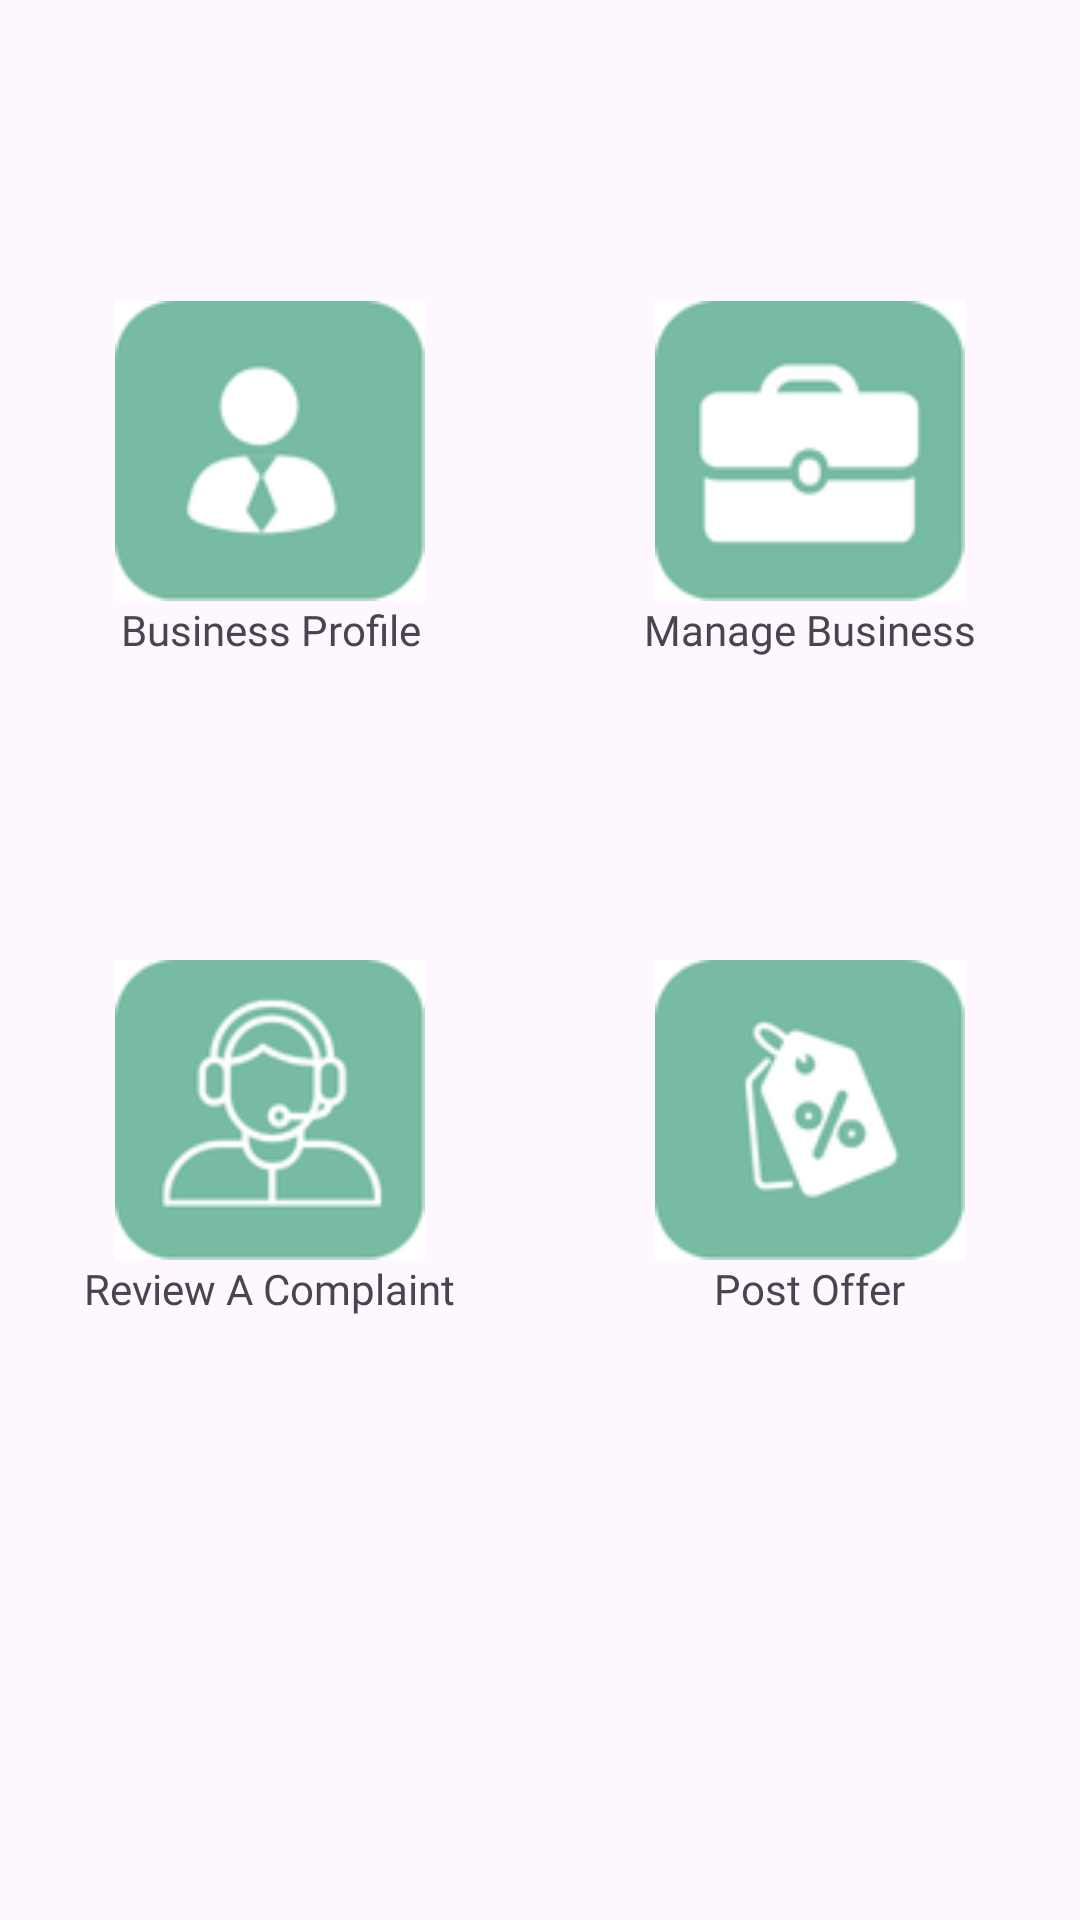

Icon bounding boxes for this 1080px x 1920px phone screenshot, format (x1, y1, x2, y2):
offers card: (655, 960, 965, 1260)
